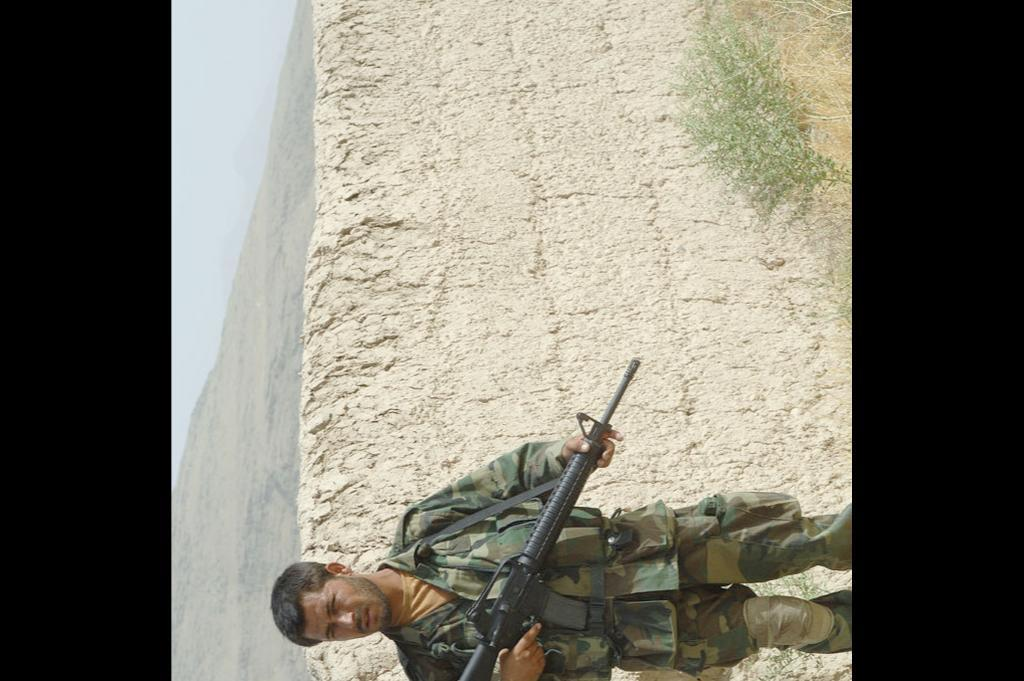gun: (418, 341, 638, 681)
